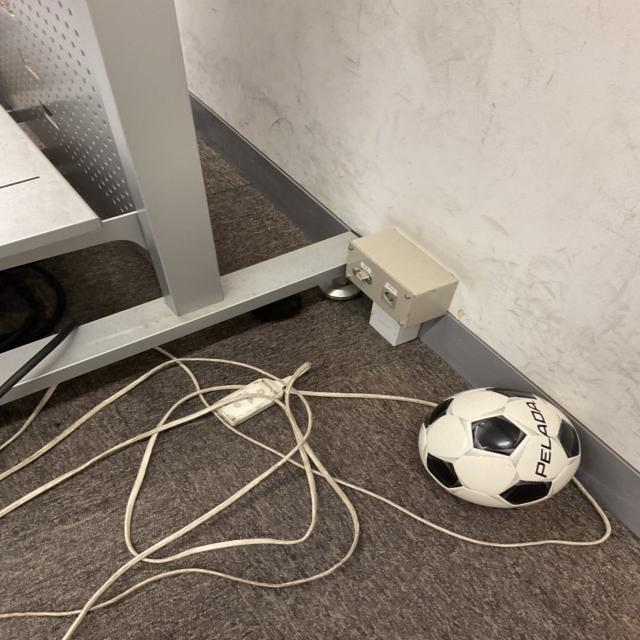ball: (415, 388, 579, 511)
